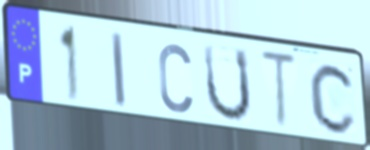1: (58, 23, 82, 107)
C: (307, 60, 358, 137), (156, 40, 195, 116)
I: (109, 30, 128, 111)
T: (258, 47, 300, 134)
U: (202, 42, 254, 124)
